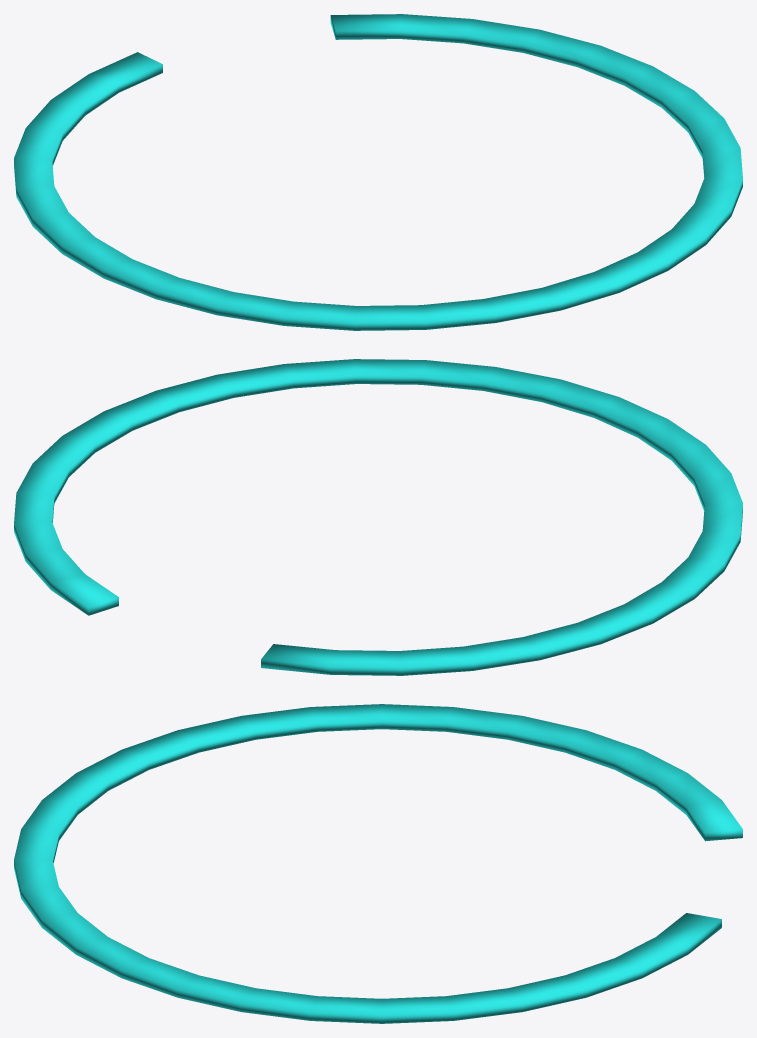
The model's file is ring.fbx.
The picture shows the model from 3 angles, top to bottom: view 1: azimuth 30°, elevation 25°; view 2: azimuth 150°, elevation 25°; view 3: azimuth 270°, elevation 25°; orthographic projection.
Parts seen in each view (by area): view 1: Circle; view 2: Circle; view 3: Circle.
Part boxes in pixels (<box>): Circle: <box>14,14,742,330</box>; Circle: <box>14,359,742,675</box>; Circle: <box>14,704,742,1023</box>.
Size of the model in its own units: 1000 by 13.21 by 990.
